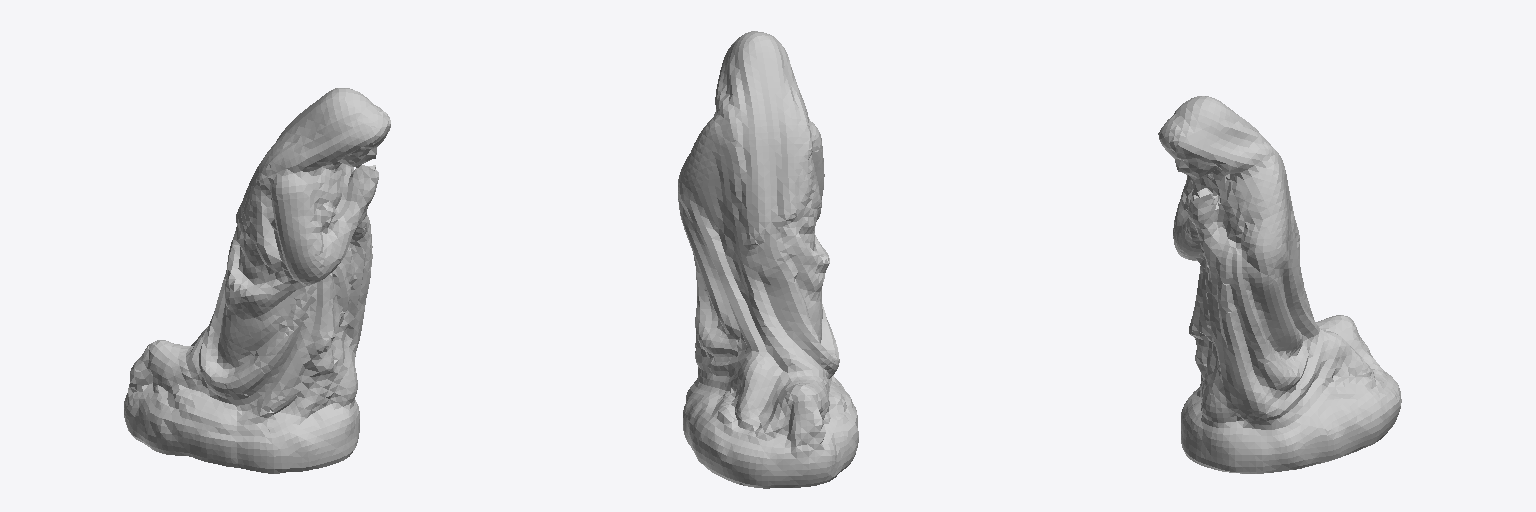
The model's file is virginMary.obj.
The picture shows the model from 3 angles: view 1: azimuth 30°, elevation 25°; view 2: azimuth 150°, elevation 25°; view 3: azimuth 270°, elevation 25°; orthographic projection.
Visible parts, largest first — view 1: SMaria_LP2; view 2: SMaria_LP2; view 3: SMaria_LP2.
Boxes of the visible parts, box(x1,y1,x2,y2) form: SMaria_LP2: box(124, 88, 390, 473); SMaria_LP2: box(678, 31, 858, 488); SMaria_LP2: box(1158, 96, 1401, 473).
Size of the model in its own units: 0.1103 by 0.1973 by 0.1195.